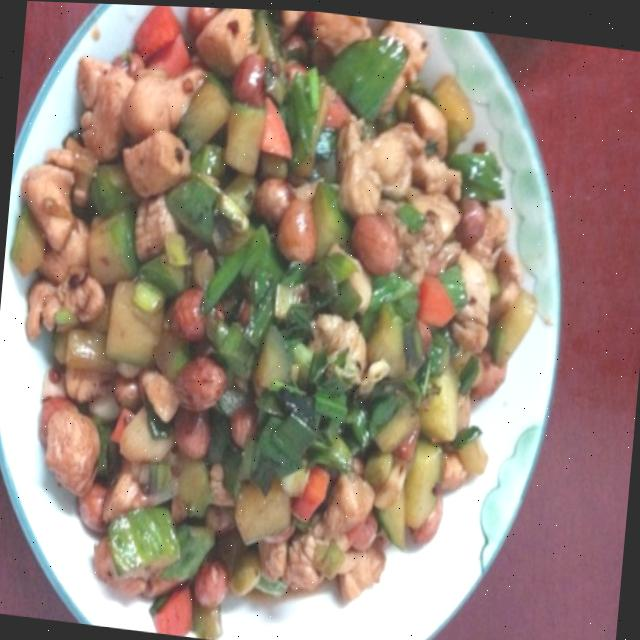鸡肉料理 含炸鸡: (11, 0, 537, 640)
